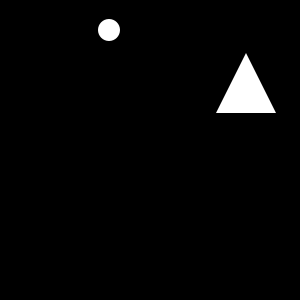rectangle: (98, 19, 120, 41)
triangle: (216, 53, 276, 113)
